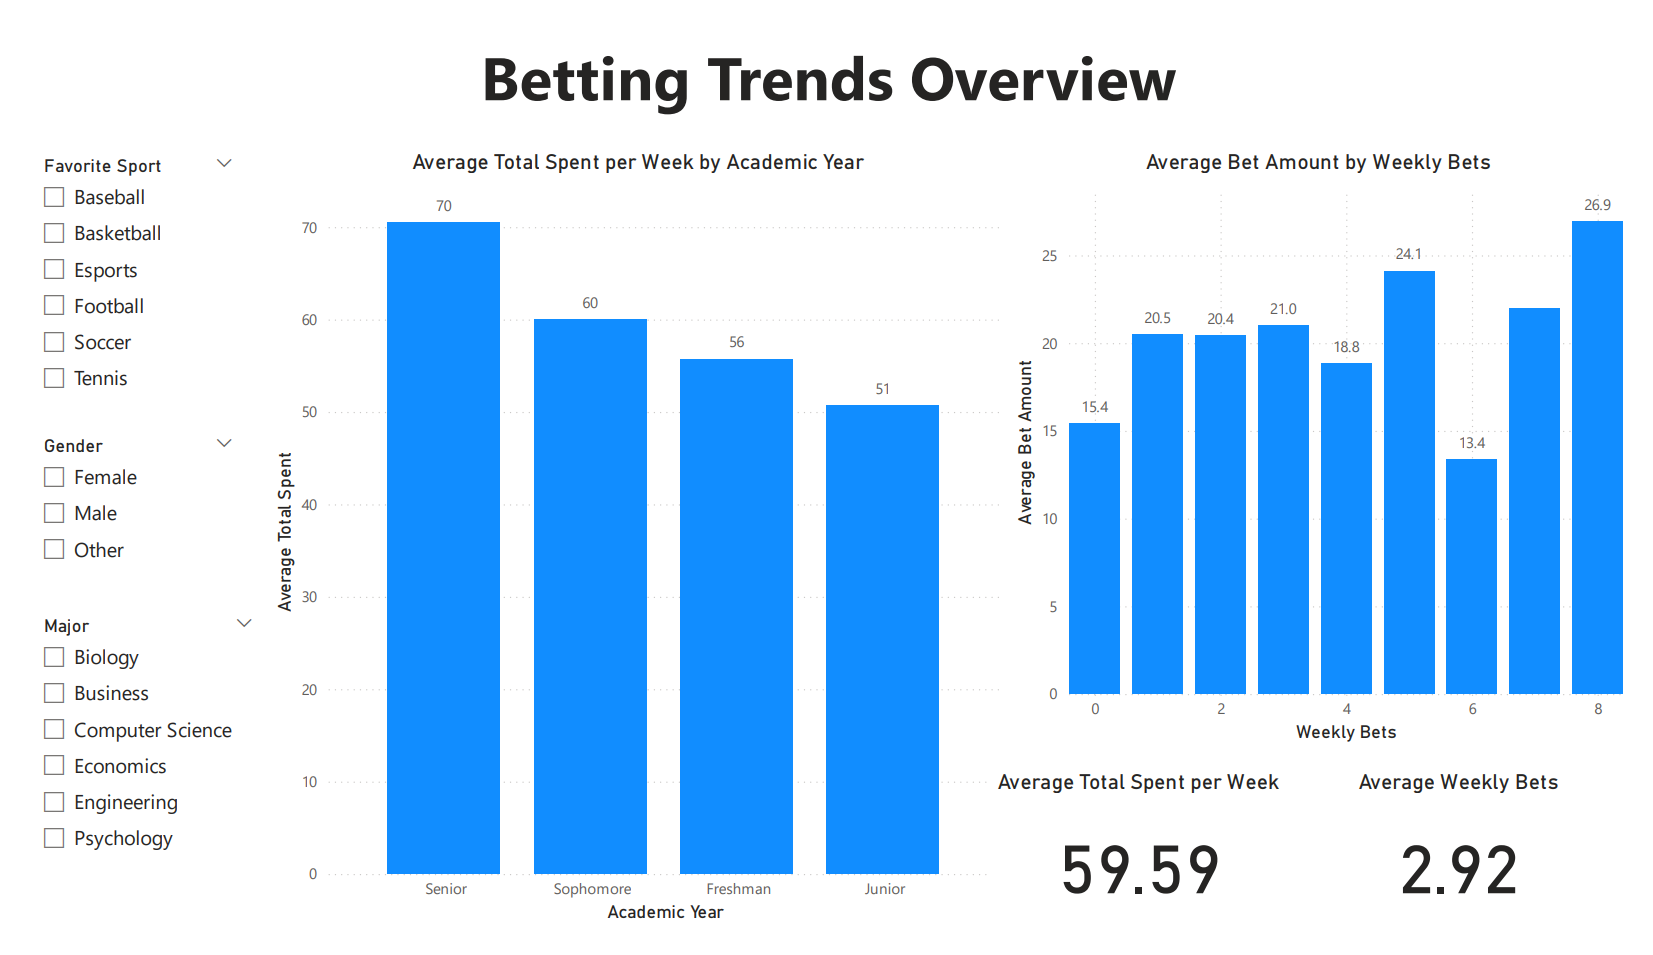

This screenshot's page, from the dashboard's own definition file:
{"tool":"powerbi","page":{"name":"Betting Trends","canvas":[1280,720],"ordinal":1},"visuals":[{"type":"clusteredColumnChart","title":"Average Bet Amount by Weekly Bets","fields":{"Category":["finalized_student_sports_betting_data.weekly_bets"],"Y":["Avg(finalized_student_sports_betting_data.avg_bet_amount)"]},"box":[784,96,496,480],"z":0},{"type":"clusteredColumnChart","title":"Average Total Spent per Week by Academic Year","fields":{"Category":["finalized_student_sports_betting_data.academic_year"],"Y":["Avg(finalized_student_sports_betting_data.total_spent_per_week)"]},"box":[192,96,592,624],"z":1},{"type":"card","title":"Average Weekly Bets","fields":{"Values":["Avg(finalized_student_sports_betting_data.weekly_bets)"]},"box":[1008,592,272,128],"z":2},{"type":"slicer","fields":{"Values":["finalized_student_sports_betting_data.favorite_sport"]},"box":[0,96,176,208],"z":3},{"type":"textbox","box":[0,0,1280,96],"z":4},{"type":"slicer","fields":{"Values":["finalized_student_sports_betting_data.gender"]},"box":[0,320,176,176],"z":5},{"type":"slicer","fields":{"Values":["finalized_student_sports_betting_data.major"]},"box":[0,464,192,224],"z":6},{"type":"card","title":"Average Total Spent per Week","fields":{"Values":["Avg(finalized_student_sports_betting_data.total_spent_per_week)"]},"box":[768,592,240,128],"z":7}]}

Visuals, with their boxes in screenshot pixels (x1, y1, x2, y2), scaled from the page's 1280x720 canvas onto the 1653x955 screenshot:
"Average Bet Amount by Weekly Bets" clusteredColumnChart: 1012:127:1652:764
"Average Total Spent per Week by Academic Year" clusteredColumnChart: 248:127:1012:954
"Average Weekly Bets" card: 1302:785:1652:954
slicer - finalized_student_sports_betting_data.favorite_sport: 0:127:227:403
textbox: 0:0:1652:127
slicer - finalized_student_sports_betting_data.gender: 0:424:227:658
slicer - finalized_student_sports_betting_data.major: 0:615:248:913
"Average Total Spent per Week" card: 992:785:1302:954
